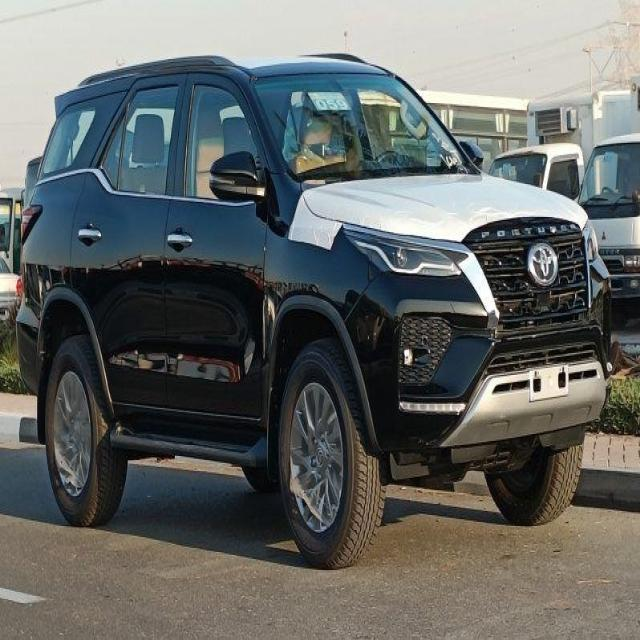light_vehicle: (15, 52, 613, 570)
